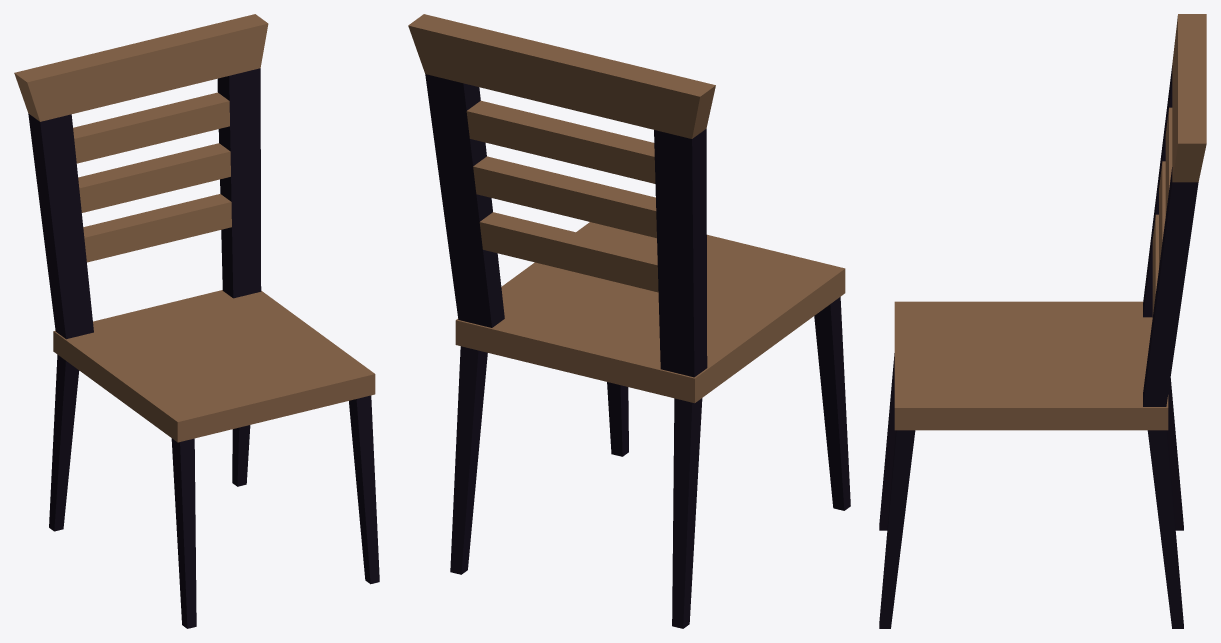
The model's file is Dining_Chair.fbx.
3 renders of one model, left to right at view 1: azimuth 30°, elevation 25°; view 2: azimuth 150°, elevation 25°; view 3: azimuth 270°, elevation 25°, orthographic. The views are drawn at different scales.
Parts seen in each view (by area): view 1: Chair; view 2: Chair; view 3: Chair.
Part boxes in pixels (x1=…): Chair: x1=14, y1=14, x2=379, y2=628; Chair: x1=408, y1=14, x2=850, y2=628; Chair: x1=879, y1=14, x2=1206, y2=628.
Bounding box in the file's own units: 126 × 135 × 226.
